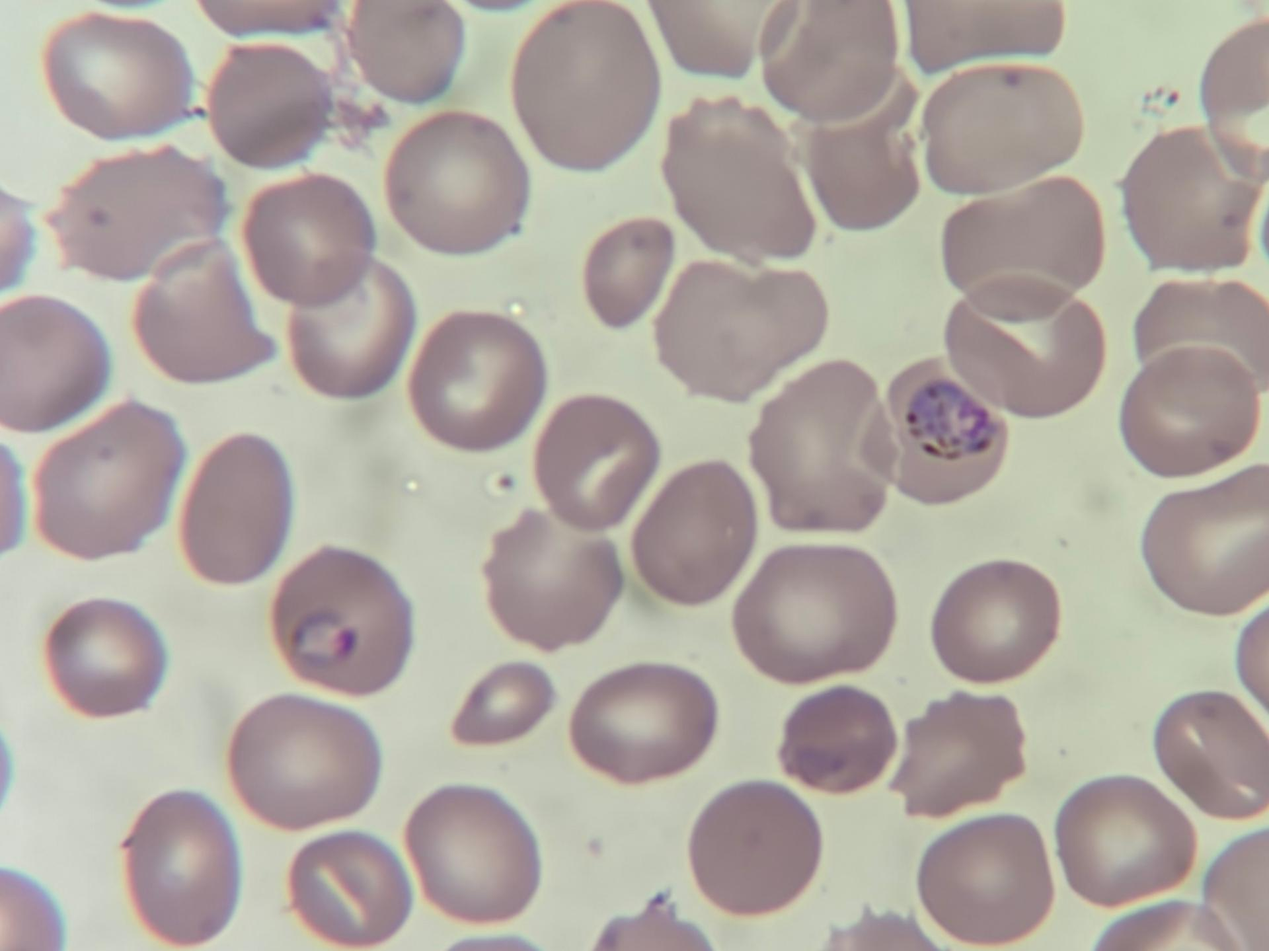Infected: (268, 546, 411, 694), (880, 360, 1016, 504)
Uninfected: (659, 100, 818, 265), (509, 3, 657, 171), (746, 361, 894, 529), (652, 260, 822, 403), (50, 145, 225, 281), (32, 400, 182, 558), (733, 545, 894, 683), (919, 63, 1081, 194), (941, 178, 1098, 313), (134, 243, 277, 385), (944, 295, 1101, 424), (1119, 128, 1261, 270), (228, 696, 378, 829), (385, 113, 527, 252), (1141, 459, 1269, 612), (482, 509, 619, 648), (1119, 343, 1261, 477), (406, 312, 545, 448), (403, 786, 540, 922), (240, 172, 375, 307), (631, 463, 757, 605), (45, 17, 194, 136), (687, 782, 820, 915), (120, 794, 239, 942), (179, 432, 293, 586), (285, 264, 414, 399), (915, 816, 1052, 942), (797, 93, 921, 232), (570, 663, 712, 784), (529, 394, 656, 529), (888, 692, 1026, 816), (1054, 780, 1188, 907), (759, 1, 897, 123), (931, 560, 1058, 682), (205, 43, 323, 168), (1134, 278, 1266, 389), (44, 597, 165, 717), (1, 295, 108, 430), (1155, 695, 1269, 819), (286, 831, 410, 944), (777, 685, 897, 794), (345, 0, 465, 99), (905, 2, 1063, 75), (1201, 17, 1269, 158), (645, 3, 771, 79), (584, 217, 672, 324), (451, 660, 555, 744), (1201, 827, 1268, 941)
